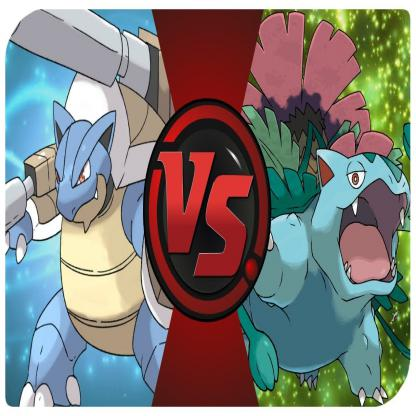Venusaur: (262, 26, 416, 416)
